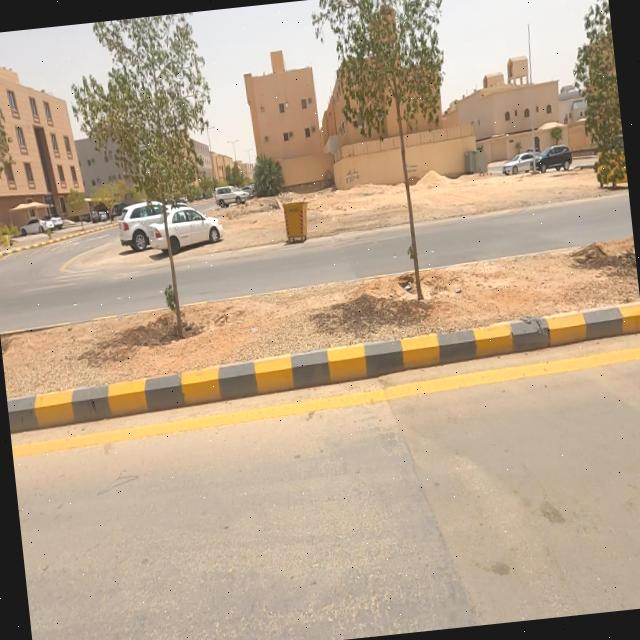Graffiti: (344, 167, 361, 184), (405, 160, 417, 176)
